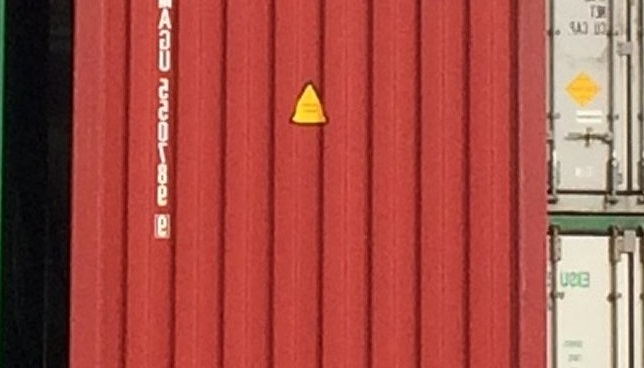container_no_door: (71, 1, 550, 368)
